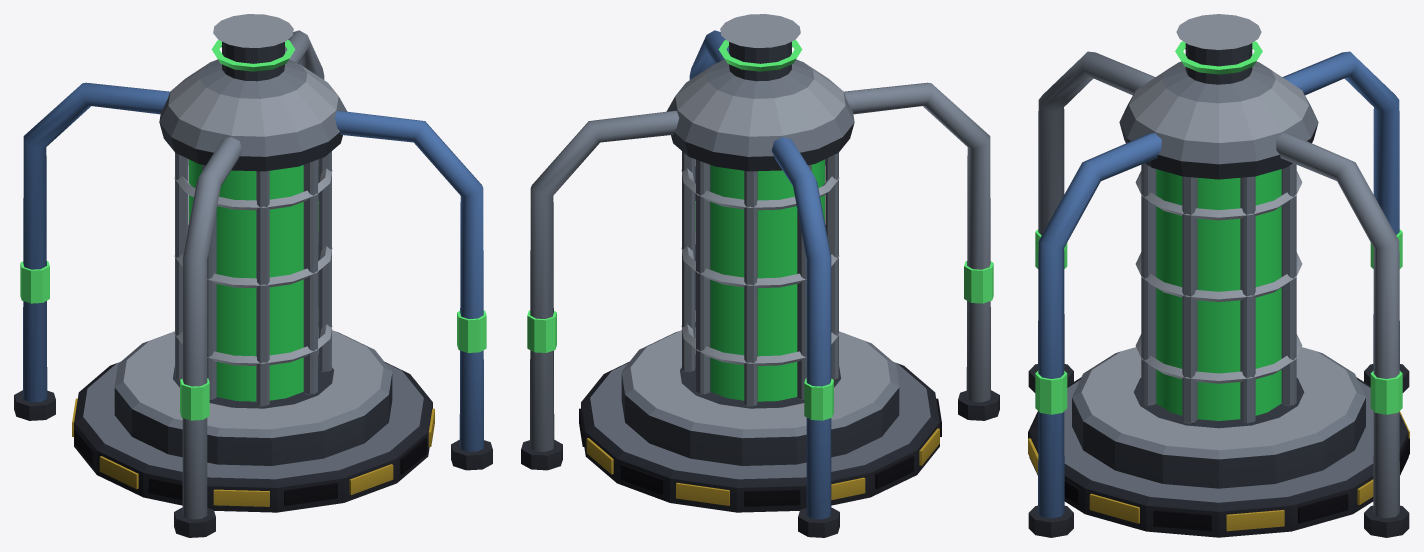
File: lab_reactor.glb
3 renders of one model, left to right at view 1: azimuth 30°, elevation 25°; view 2: azimuth 150°, elevation 25°; view 3: azimuth 270°, elevation 25°, orthographic. The views are drawn at different scales.
Visible parts, largest first — view 1: Body, Glow; view 2: Body, Glow; view 3: Body, Glow.
Boxes of the visible parts, x1,y1,x2,y2 form: Body: (14, 14, 492, 537); Glow: (20, 40, 486, 420); Body: (521, 14, 999, 537); Glow: (527, 40, 993, 420); Body: (1028, 14, 1409, 537); Glow: (1035, 41, 1402, 420).
Size of the model in its own units: 4.02 by 4.95 by 4.02.
